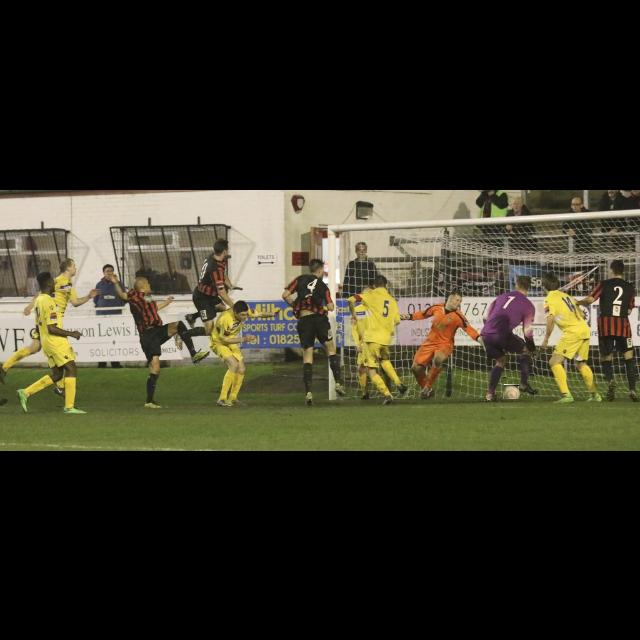Football: (503, 385, 519, 399)
